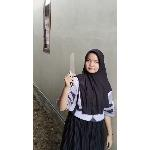Pisau: (68, 52, 78, 88)
